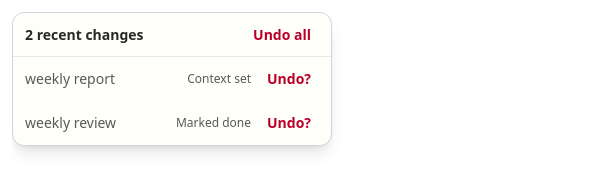
Test case: Undo all when only some reverts land › counts only completions when it warns about respawned occurrences
The width and height of the screenshot is (599, 172).
Click the button "Undo all" at {"x": 282, "y": 34}, box [245, 20, 319, 48]
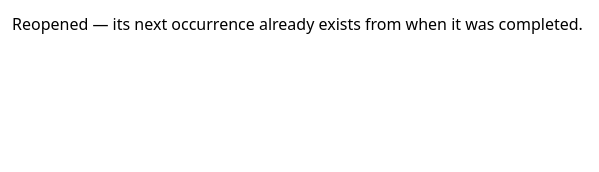
Expected: the text "its next occurrence already exists" is shown, [12, 13, 583, 35]
